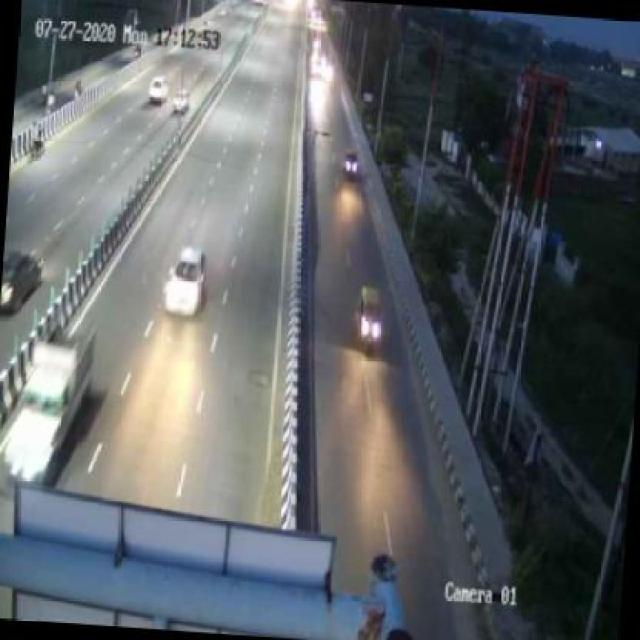car: (2, 317, 103, 494), (158, 236, 214, 316)
